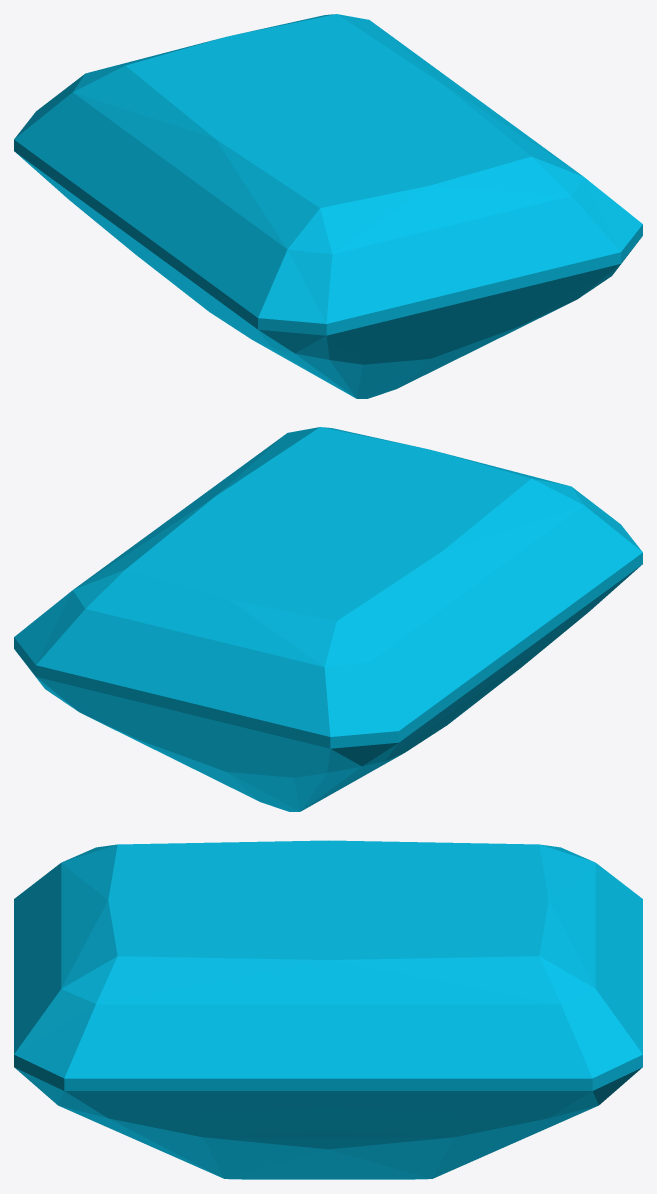
The model's file is Head_Single Halo_Radiant_1.5ct_Diamond.glb.
3 views of the same model, one above another, from view 1: azimuth 30°, elevation 25°; view 2: azimuth 150°, elevation 25°; view 3: azimuth 270°, elevation 25° (orthographic). The views are drawn at different scales.
Bounding box in the file's own units: 0.00576 × 0.0037 × 0.00753.
